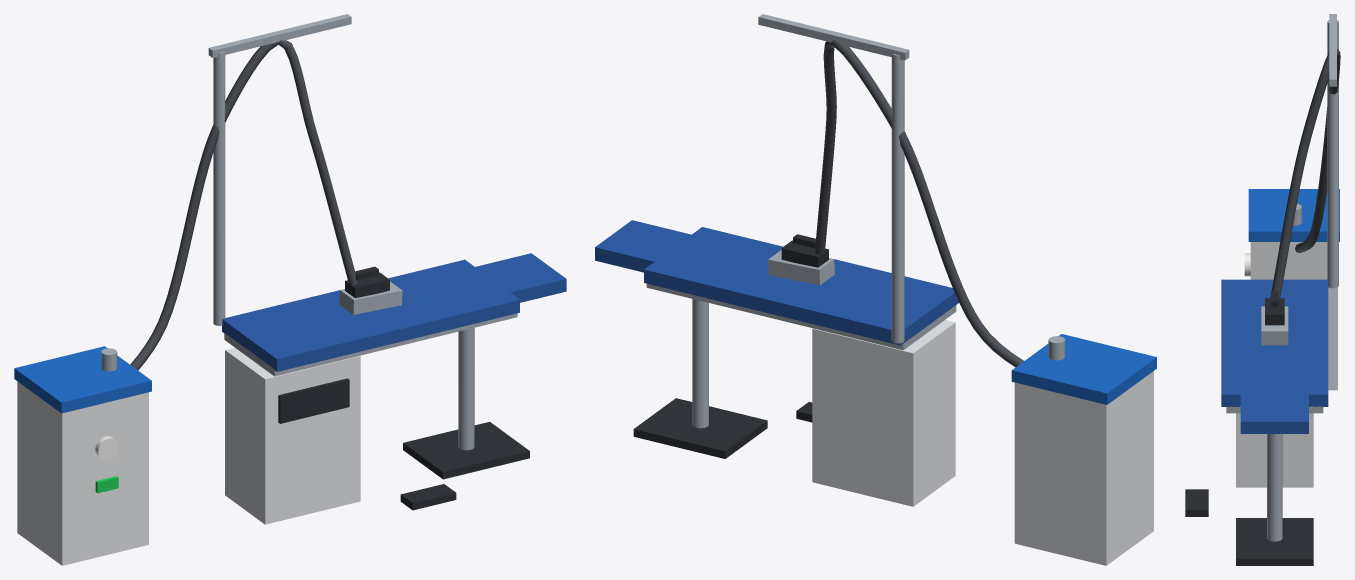
Rendered from utu-masasi.glb.
3 renders of one model, left to right at view 1: azimuth 30°, elevation 25°; view 2: azimuth 150°, elevation 25°; view 3: azimuth 270°, elevation 25°, orthographic. The views are drawn at different scales.
Parts seen in each view (by area): view 1: Asset; view 2: Asset; view 3: Asset.
Part boxes in pixels (x1,y1,x2,y2): Asset: (14,14,566,565); Asset: (595,14,1156,565); Asset: (1185,14,1340,565).
Bounding box in the file's own units: 2.88 × 2.42 × 0.7981.
